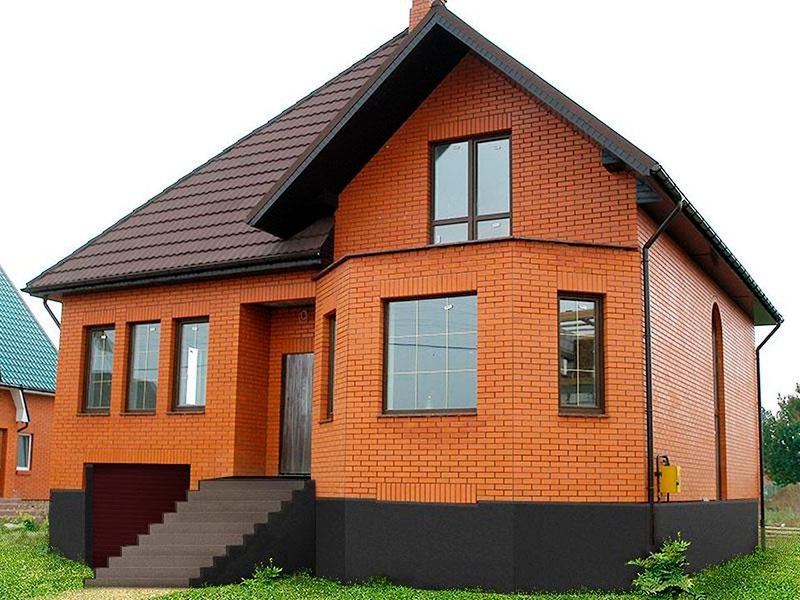window: (377, 288, 485, 415), (422, 125, 516, 241), (554, 280, 610, 422), (125, 315, 162, 425), (76, 318, 114, 420), (172, 313, 211, 412)
